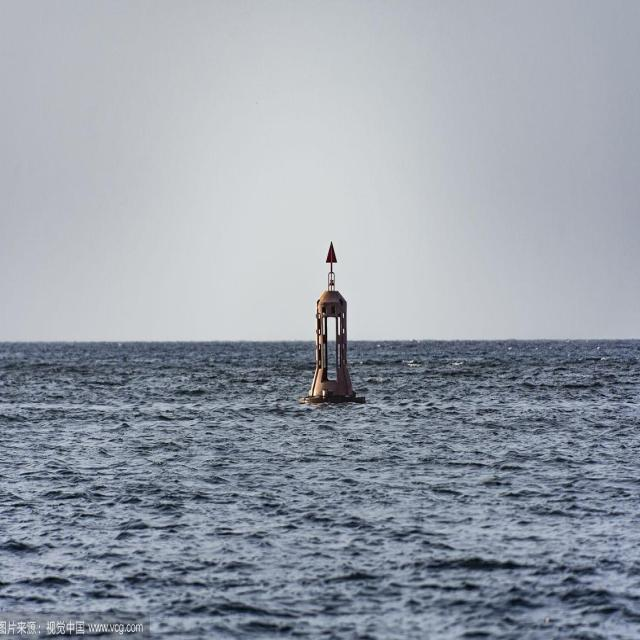buoy: (306, 237, 365, 408)
